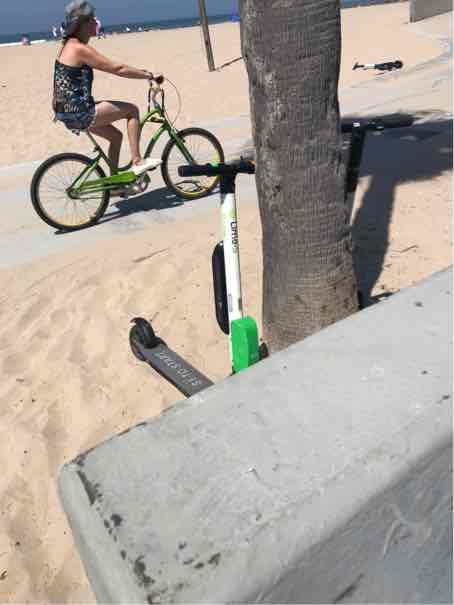scooter: (127, 143, 270, 410)
